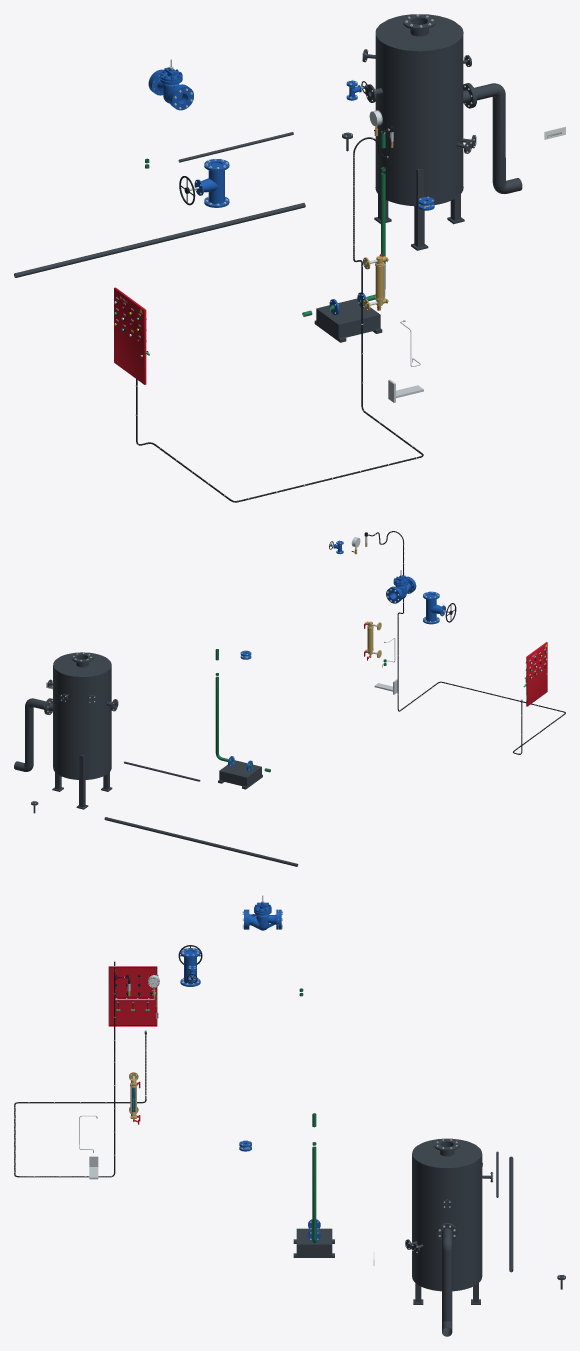
File: s4000-3-DiyXczdl.glb
3 renders of one model, top to bottom at view 1: azimuth 30°, elevation 25°; view 2: azimuth 150°, elevation 25°; view 3: azimuth 270°, elevation 25°, orthographic. The views are drawn at different scales.
Parts seen in each view (by area): view 1: separator_bdv60_5 / dark, cabinet_door / cabinet_door_5.npz, bdv_water_drain / dark, pump_branch_2 / dark, wiring_pressure_transmitter / black, bottom_discharge / dark, steam_manual / blue, gpz CAD solid 0, sight_glasses_1 / sight_glasses_1_0.npz, pump_branch_2 / green; view 2: separator_bdv60_5 / dark, cabinet_door / cabinet_door_5.npz, bdv_water_drain / dark, wiring_pressure_transmitter / black, pump_branch_2 / dark, bottom_discharge / dark, steam_manual / blue, pump_branch_2 / green; view 3: separator_bdv60_5 / dark, cabinet_door / cabinet_door_5.npz, bdv_water_drain / dark, wiring_pressure_transmitter / black, pump_branch_2 / dark, gpz CAD solid 0, bottom_discharge / dark, pump_branch_2 / green.
Part boxes in pixels (left/top/right/bottom): separator_bdv60_5 / dark: left=362, top=14, right=476, bottom=250; cabinet_door / cabinet_door_5.npz: left=114, top=287, right=146, bottom=384; bdv_water_drain / dark: left=466, top=83, right=522, bottom=193; pump_branch_2 / dark: left=314, top=298, right=382, bottom=342; wiring_pressure_transmitter / black: left=136, top=129, right=423, bottom=502; bottom_discharge / dark: left=14, top=203, right=305, bottom=277; steam_manual / blue: left=194, top=159, right=229, bottom=207; gpz CAD solid 0: left=150, top=59, right=187, bottom=106; sight_glasses_1 / sight_glasses_1_0.npz: left=363, top=253, right=388, bottom=311; pump_branch_2 / green: left=302, top=131, right=385, bottom=316; separator_bdv60_5 / dark: left=45, top=652, right=118, bottom=809; cabinet_door / cabinet_door_5.npz: left=525, top=642, right=547, bottom=706; bdv_water_drain / dark: left=14, top=698, right=50, bottom=771; wiring_pressure_transmitter / black: left=368, top=531, right=565, bottom=754; pump_branch_2 / dark: left=218, top=760, right=262, bottom=789; bottom_discharge / dark: left=104, top=817, right=298, bottom=866; steam_manual / blue: left=423, top=591, right=445, bottom=624; pump_branch_2 / green: left=215, top=649, right=270, bottom=772; separator_bdv60_5 / dark: left=405, top=1138, right=492, bottom=1304; cabinet_door / cabinet_door_5.npz: left=108, top=966, right=158, bottom=1026; bdv_water_drain / dark: left=437, top=1223, right=457, bottom=1336; wiring_pressure_transmitter / black: left=14, top=961, right=146, bottom=1177; pump_branch_2 / dark: left=293, top=1228, right=334, bottom=1257; gpz CAD solid 0: left=247, top=895, right=278, bottom=930; bottom_discharge / dark: left=509, top=1156, right=513, bottom=1272; pump_branch_2 / green: left=312, top=1113, right=316, bottom=1243.
Bounding box in the file's own units: 5.93 × 3.29 × 6.03.
